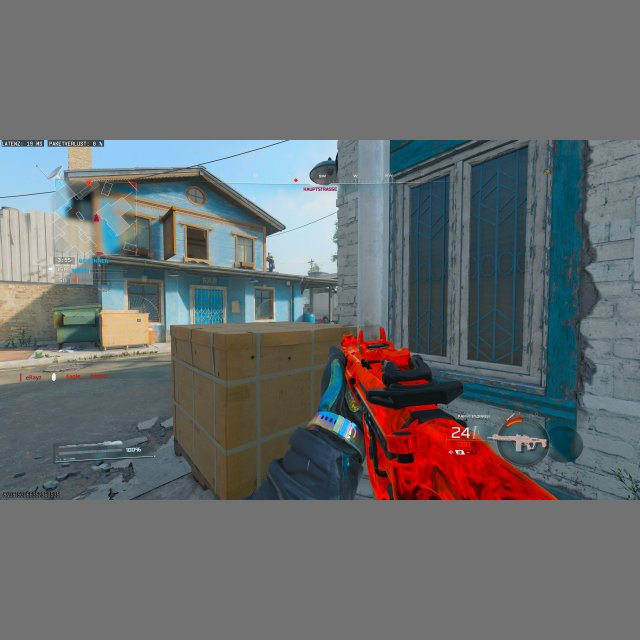player: (266, 252, 274, 271)
